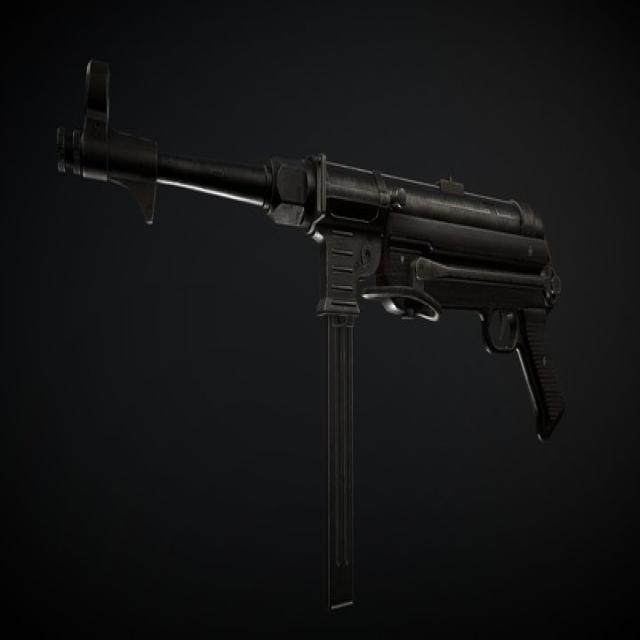SMG: (56, 60, 568, 580)
